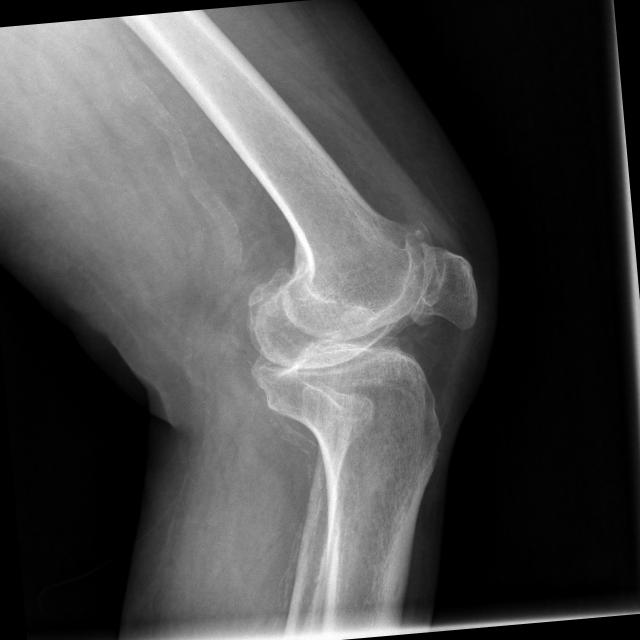Knee: (240, 226, 493, 443)
